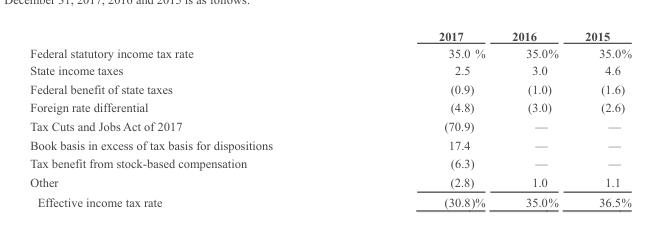table: (29, 28, 631, 208)
table column: (29, 28, 355, 208), (355, 28, 497, 208), (497, 28, 571, 208), (571, 28, 631, 208)
table column header: (29, 28, 631, 44)
table row: (29, 97, 631, 116), (29, 116, 631, 135), (29, 153, 631, 172), (29, 172, 631, 191), (29, 61, 631, 79), (29, 79, 631, 97), (29, 135, 631, 153), (29, 44, 631, 61), (29, 191, 631, 208), (29, 28, 631, 44)
